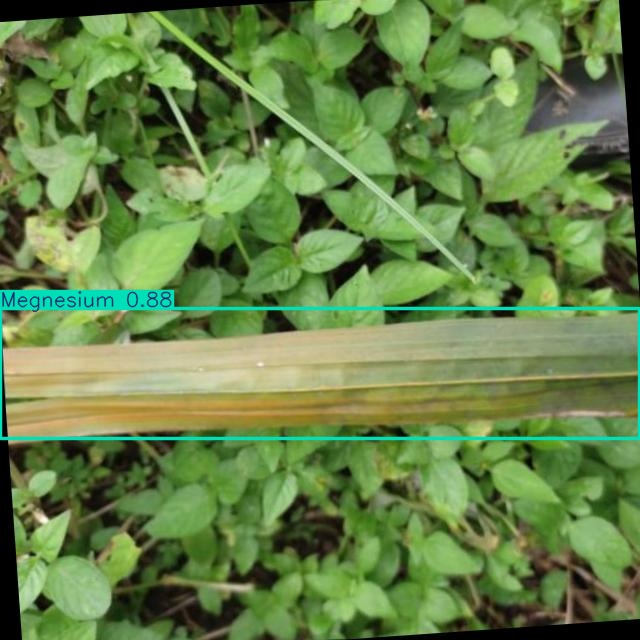Megnesium: (1, 309, 640, 439)
